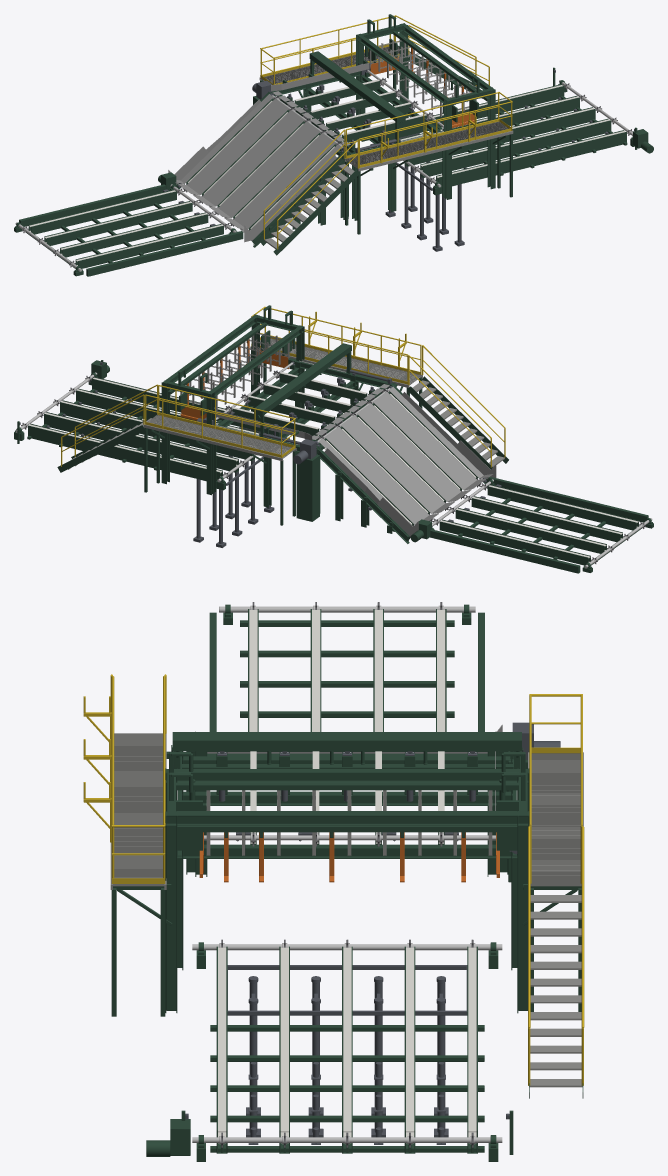
File: stacker_frame.glb
3 renders of one model, top to bottom at view 1: azimuth 30°, elevation 25°; view 2: azimuth 150°, elevation 25°; view 3: azimuth 270°, elevation 25°, orthographic. The views are drawn at different scales.
Parts seen in each view (by area): view 1: UnscramblerBed, OutfeedFrame, SurgeFrame, CatwalkRails.001, StickFrame, InfeedFrame, CatwalkGrating.001, CatwalkFrame, UnscramblerFrame, HoistBase, StickMagazines, CourseDividerFrame (+9 smaller); view 2: UnscramblerBed, SurgeFrame, OutfeedFrame, CatwalkRails.001, StickFrame, InfeedFrame, CatwalkGrating.001, UnscramblerFrame, CatwalkFrame, HoistBase, StickMagazines, CourseDividerFrame (+9 smaller); view 3: CatwalkGrating.001, StickFrame, OutfeedFrame, InfeedFrame, SurgeFrame, OutfeedWearStrips, CourseDividerFrame, HoistBase, CatwalkRails.001, SurgeWearStrips, PackageGuideHangers, CatwalkFrame (+10 smaller).
Boxes of the visible parts, <box> form: UnscramblerBed: <box>168,94,341,242</box>; OutfeedFrame: <box>360,67,653,195</box>; SurgeFrame: <box>14,172,243,276</box>; CatwalkRails.001: <box>260,15,512,249</box>; StickFrame: <box>356,14,495,199</box>; InfeedFrame: <box>270,60,456,220</box>; CatwalkGrating.001: <box>259,46,513,249</box>; CatwalkFrame: <box>260,45,512,255</box>; UnscramblerFrame: <box>176,92,350,247</box>; HoistBase: <box>370,133,466,251</box>; StickMagazines: <box>369,37,476,116</box>; CourseDividerFrame: <box>309,51,405,143</box>; UnscramblerBed: <box>318,387,496,536</box>; SurgeFrame: <box>410,476,653,573</box>; OutfeedFrame: <box>14,360,273,490</box>; CatwalkRails.001: <box>61,306,505,467</box>; StickFrame: <box>161,305,304,495</box>; InfeedFrame: <box>212,358,397,507</box>; CatwalkGrating.001: <box>68,338,504,469</box>; UnscramblerFrame: <box>296,384,488,543</box>; CatwalkFrame: <box>57,350,508,525</box>; HoistBase: <box>191,427,289,547</box>; StickMagazines: <box>180,330,289,410</box>; CourseDividerFrame: <box>254,343,352,437</box>; CatwalkGrating.001: <box>110,733,583,1087</box>; StickFrame: <box>165,752,529,1013</box>; OutfeedFrame: <box>146,942,513,1161</box>; InfeedFrame: <box>171,745,523,970</box>; SurgeFrame: <box>209,604,484,731</box>; OutfeedWearStrips: <box>218,947,476,1143</box>; CourseDividerFrame: <box>172,732,521,768</box>; HoistBase: <box>227,965,467,1137</box>; CatwalkRails.001: <box>110,674,584,1085</box>; SurgeWearStrips: <box>249,610,445,731</box>; PackageGuideHangers: <box>176,800,518,850</box>; CatwalkFrame: <box>111,751,583,1098</box>.
Bounding box in the file's own units: 21.65 × 6.69 × 8.39.
